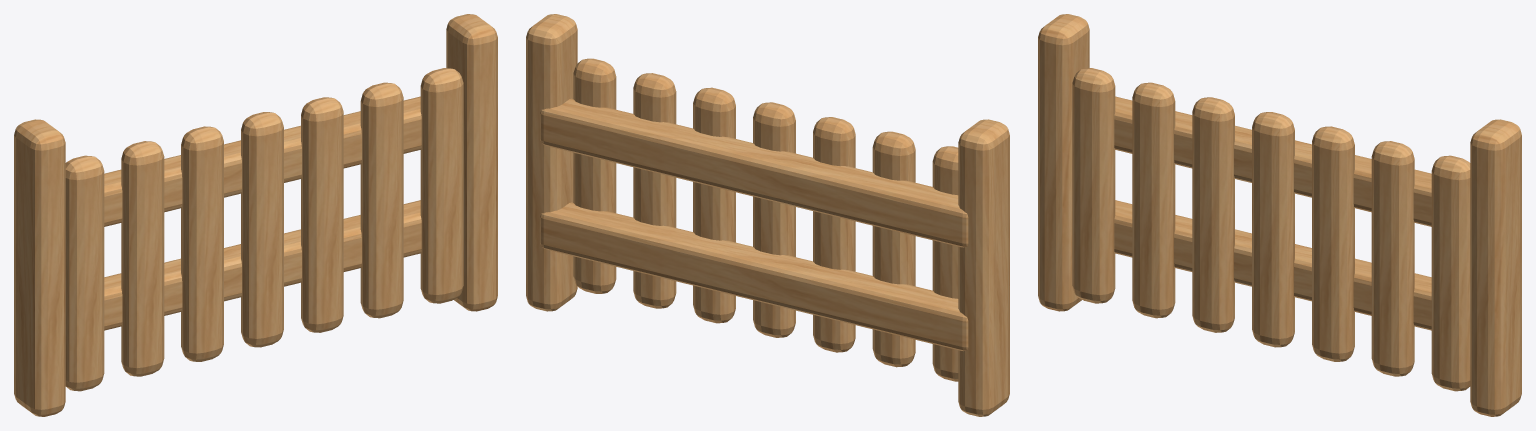
Rendered from fence.glb.
The picture shows the model from 3 angles, left to right: view 1: azimuth 30°, elevation 25°; view 2: azimuth 150°, elevation 25°; view 3: azimuth 330°, elevation 25°; orthographic projection.
Parts seen in each view (by area): view 1: fence; view 2: fence; view 3: fence.
Boxes of the visible parts, x1,y1,x2,y2 form: fence: [14, 14, 497, 416]; fence: [526, 14, 1009, 416]; fence: [1038, 14, 1521, 416].
Bounding box in the file's own units: 1.04 × 0.6 × 0.1125.
1 material, 1 textured.
